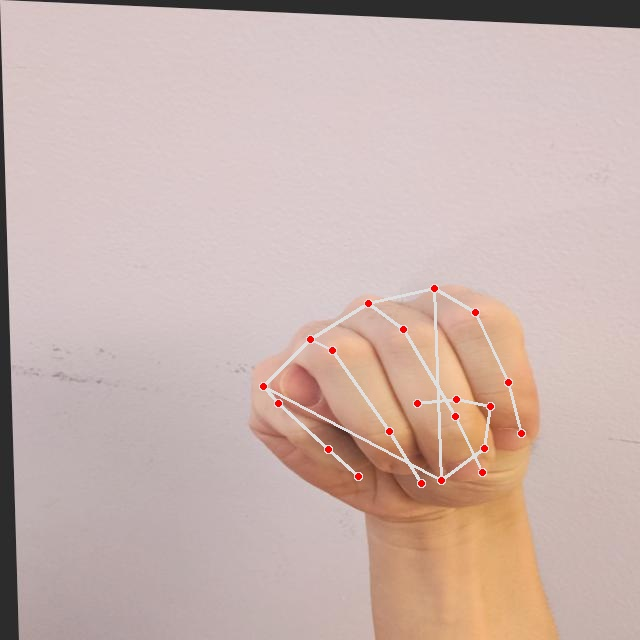M: (234, 268, 549, 523)
